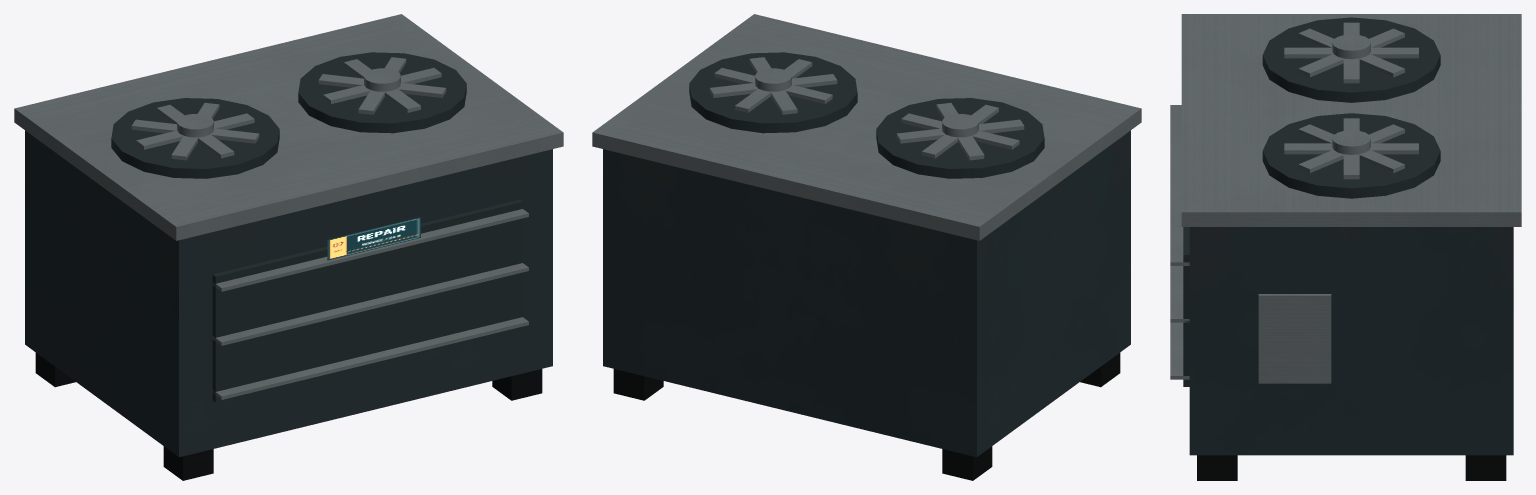
The model's file is NC_CoolingUnit_LOD1.fbx.
The picture shows the model from 3 angles, left to right: view 1: azimuth 30°, elevation 25°; view 2: azimuth 150°, elevation 25°; view 3: azimuth 270°, elevation 25°; orthographic projection. The views are drawn at different scales.
Parts seen in each view (by area): view 1: NC_CoolingUnit_LOD1; view 2: NC_CoolingUnit_LOD1; view 3: NC_CoolingUnit_LOD1.
Boxes of the visible parts, box(x1,y1,x2,y2) form: NC_CoolingUnit_LOD1: box(14, 14, 563, 480); NC_CoolingUnit_LOD1: box(592, 14, 1141, 480); NC_CoolingUnit_LOD1: box(1170, 14, 1521, 480).
Size of the model in its own units: 290 by 203 by 217.
